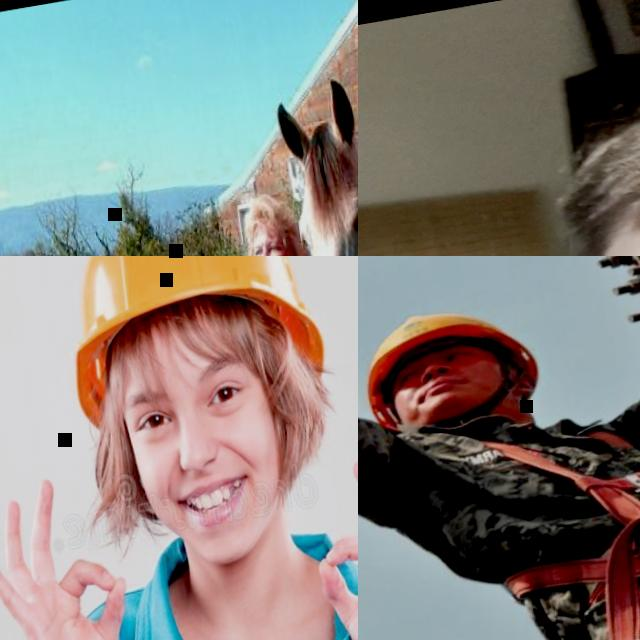Hardhat: (40, 256, 332, 424)
NO-Hardhat: (554, 25, 640, 256), (240, 192, 295, 245)
NO-Mask: (149, 460, 288, 573), (396, 353, 529, 417)
NO-Safety Vest: (438, 389, 640, 640), (72, 536, 358, 640)
Person: (0, 256, 358, 640), (358, 256, 640, 640), (358, 26, 640, 256), (358, 293, 545, 431)
